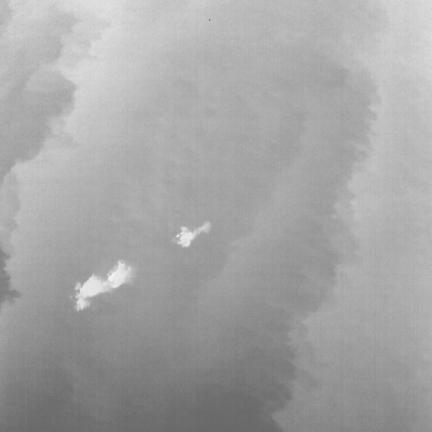flukeprints: (173, 221, 211, 247), (75, 275, 103, 310), (109, 262, 132, 288)
